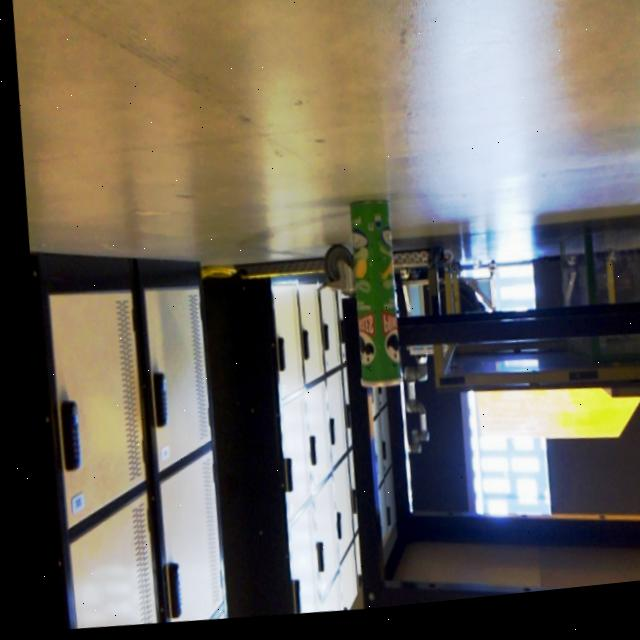greenpringles: (311, 187, 420, 443)
